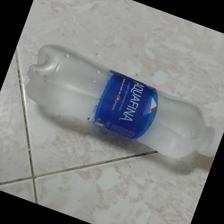Aquafina: (19, 46, 221, 163)
